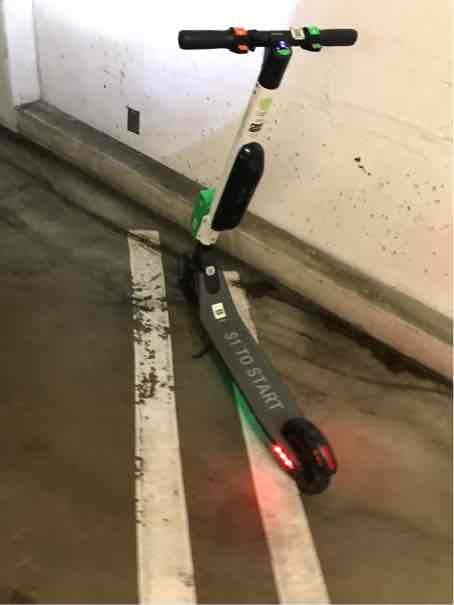scooter: (170, 9, 379, 516)
